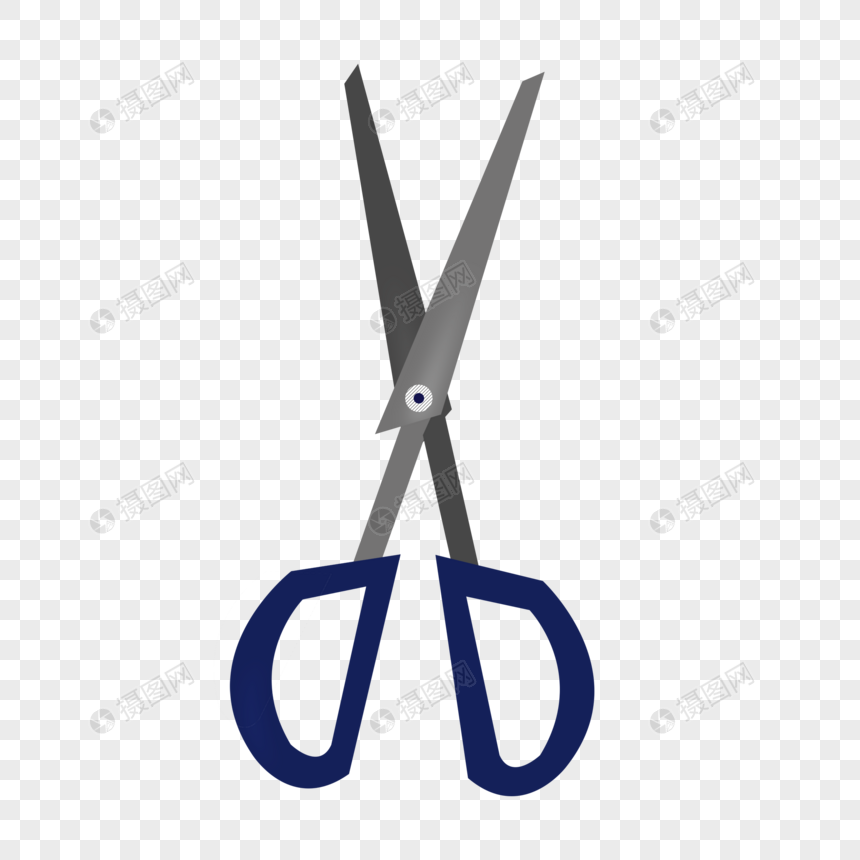scissor: (229, 46, 599, 799)
